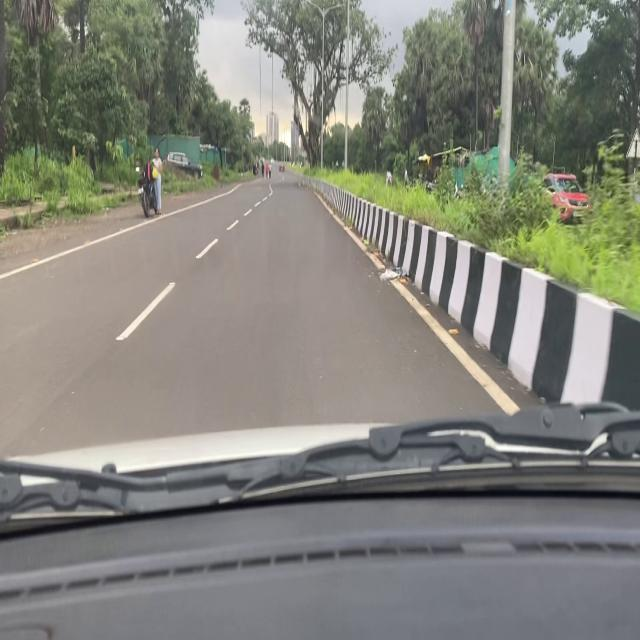lane: (307, 184, 517, 424), (101, 189, 273, 347), (1, 183, 242, 289)
